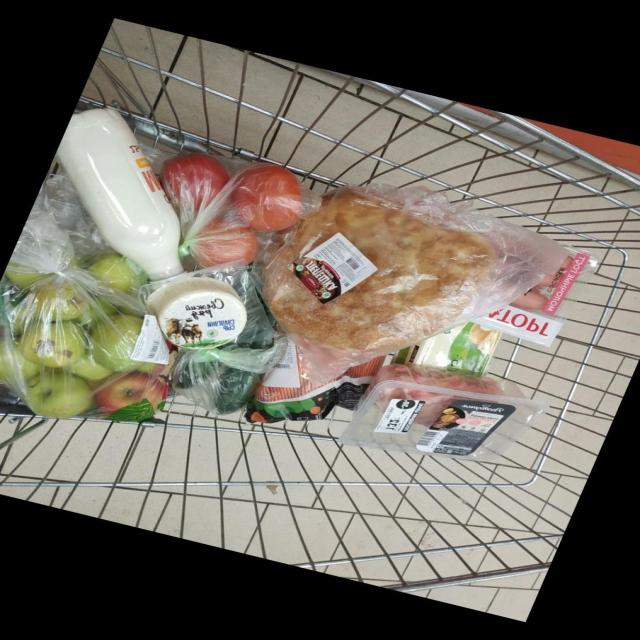Apple: (91, 313, 157, 372), (95, 371, 168, 414), (28, 371, 94, 418), (19, 321, 86, 367), (35, 281, 88, 320), (89, 253, 138, 291), (0, 341, 41, 383), (75, 296, 117, 328), (70, 355, 114, 380), (5, 271, 51, 289)
Bread: (263, 189, 497, 351)
Carrot: (344, 355, 385, 378)
Cheese: (149, 275, 247, 349)
Cucumber: (215, 367, 263, 415), (234, 299, 279, 349), (171, 361, 216, 389)
Eggs: (395, 322, 502, 376)
Meat: (340, 364, 549, 461)
Milk: (55, 107, 184, 280)
Sausages: (474, 251, 598, 346)
Tomatoes: (230, 163, 303, 232), (160, 152, 230, 205), (191, 220, 258, 267)
